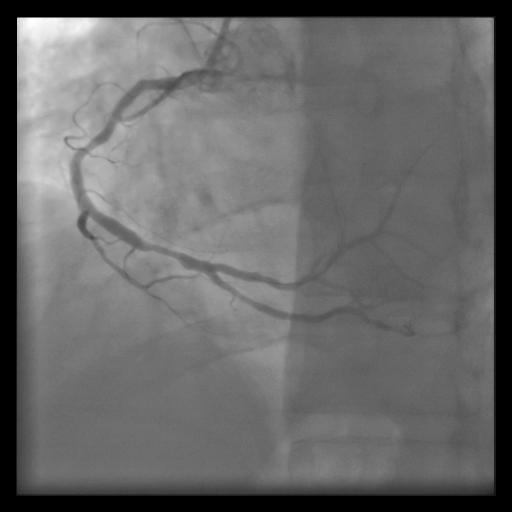Stenosis: (143, 232, 184, 269)
